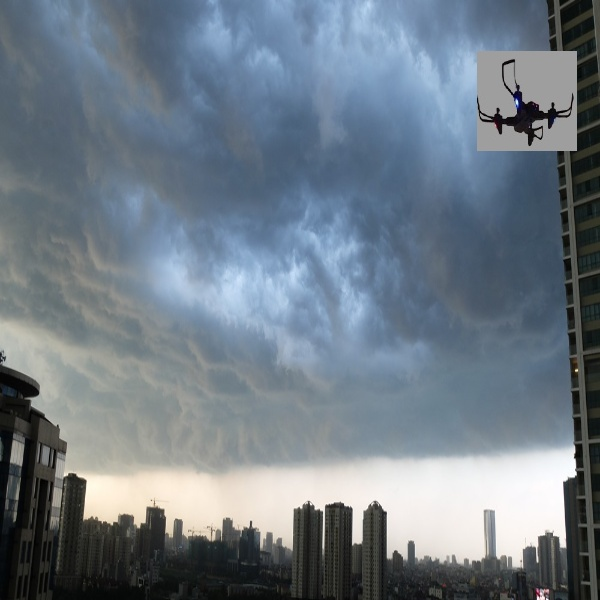drone: (479, 55, 579, 152)
